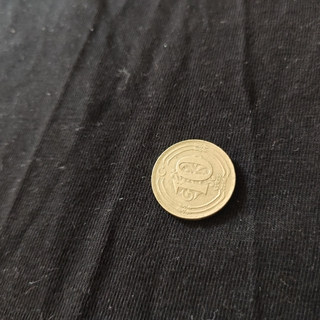10KURUS: (149, 137, 236, 221)
